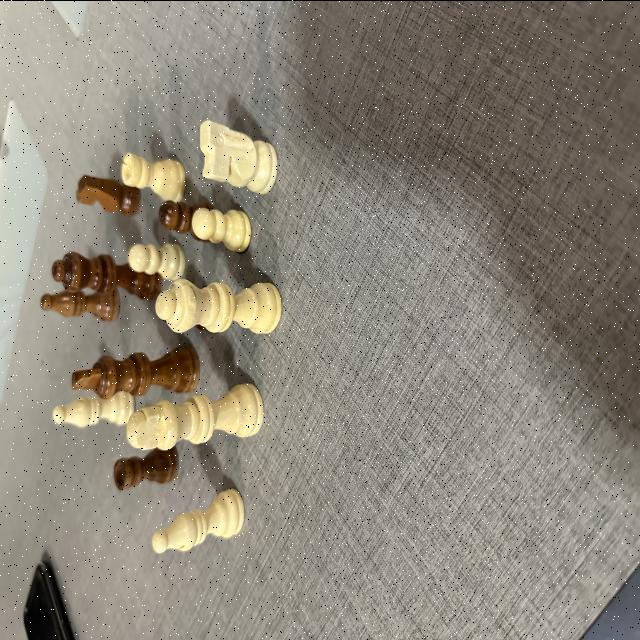Black-Bishop: (39, 288, 121, 320)
Black-King: (72, 342, 200, 398)
Black-Knight: (76, 174, 141, 216)
Black-Pawn: (159, 198, 193, 238)
Black-Queen: (52, 250, 162, 300)
Black-Rook: (114, 444, 180, 489)
White-Bishop: (152, 486, 246, 554), (53, 394, 135, 426)
White-King: (126, 382, 264, 451)
White-Knight: (200, 120, 278, 194)
White-Pawn: (192, 207, 252, 251), (128, 240, 186, 280)
White-Queen: (156, 278, 282, 334)
White-Rook: (122, 152, 186, 204)
